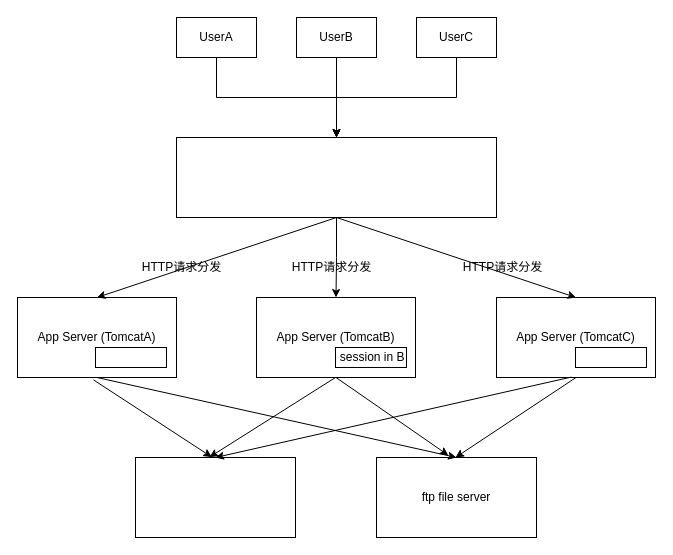
Some shapes in this 673 by 555 pixel diagram are drawn without their labels. The centre of each missing label's shape, as x and y in pixels:
DB (mysql): (x=215, y=497)
session in A: (x=130, y=357)
session in C: (x=610, y=357)
Web Server (Nginx load balance): (x=336, y=177)
